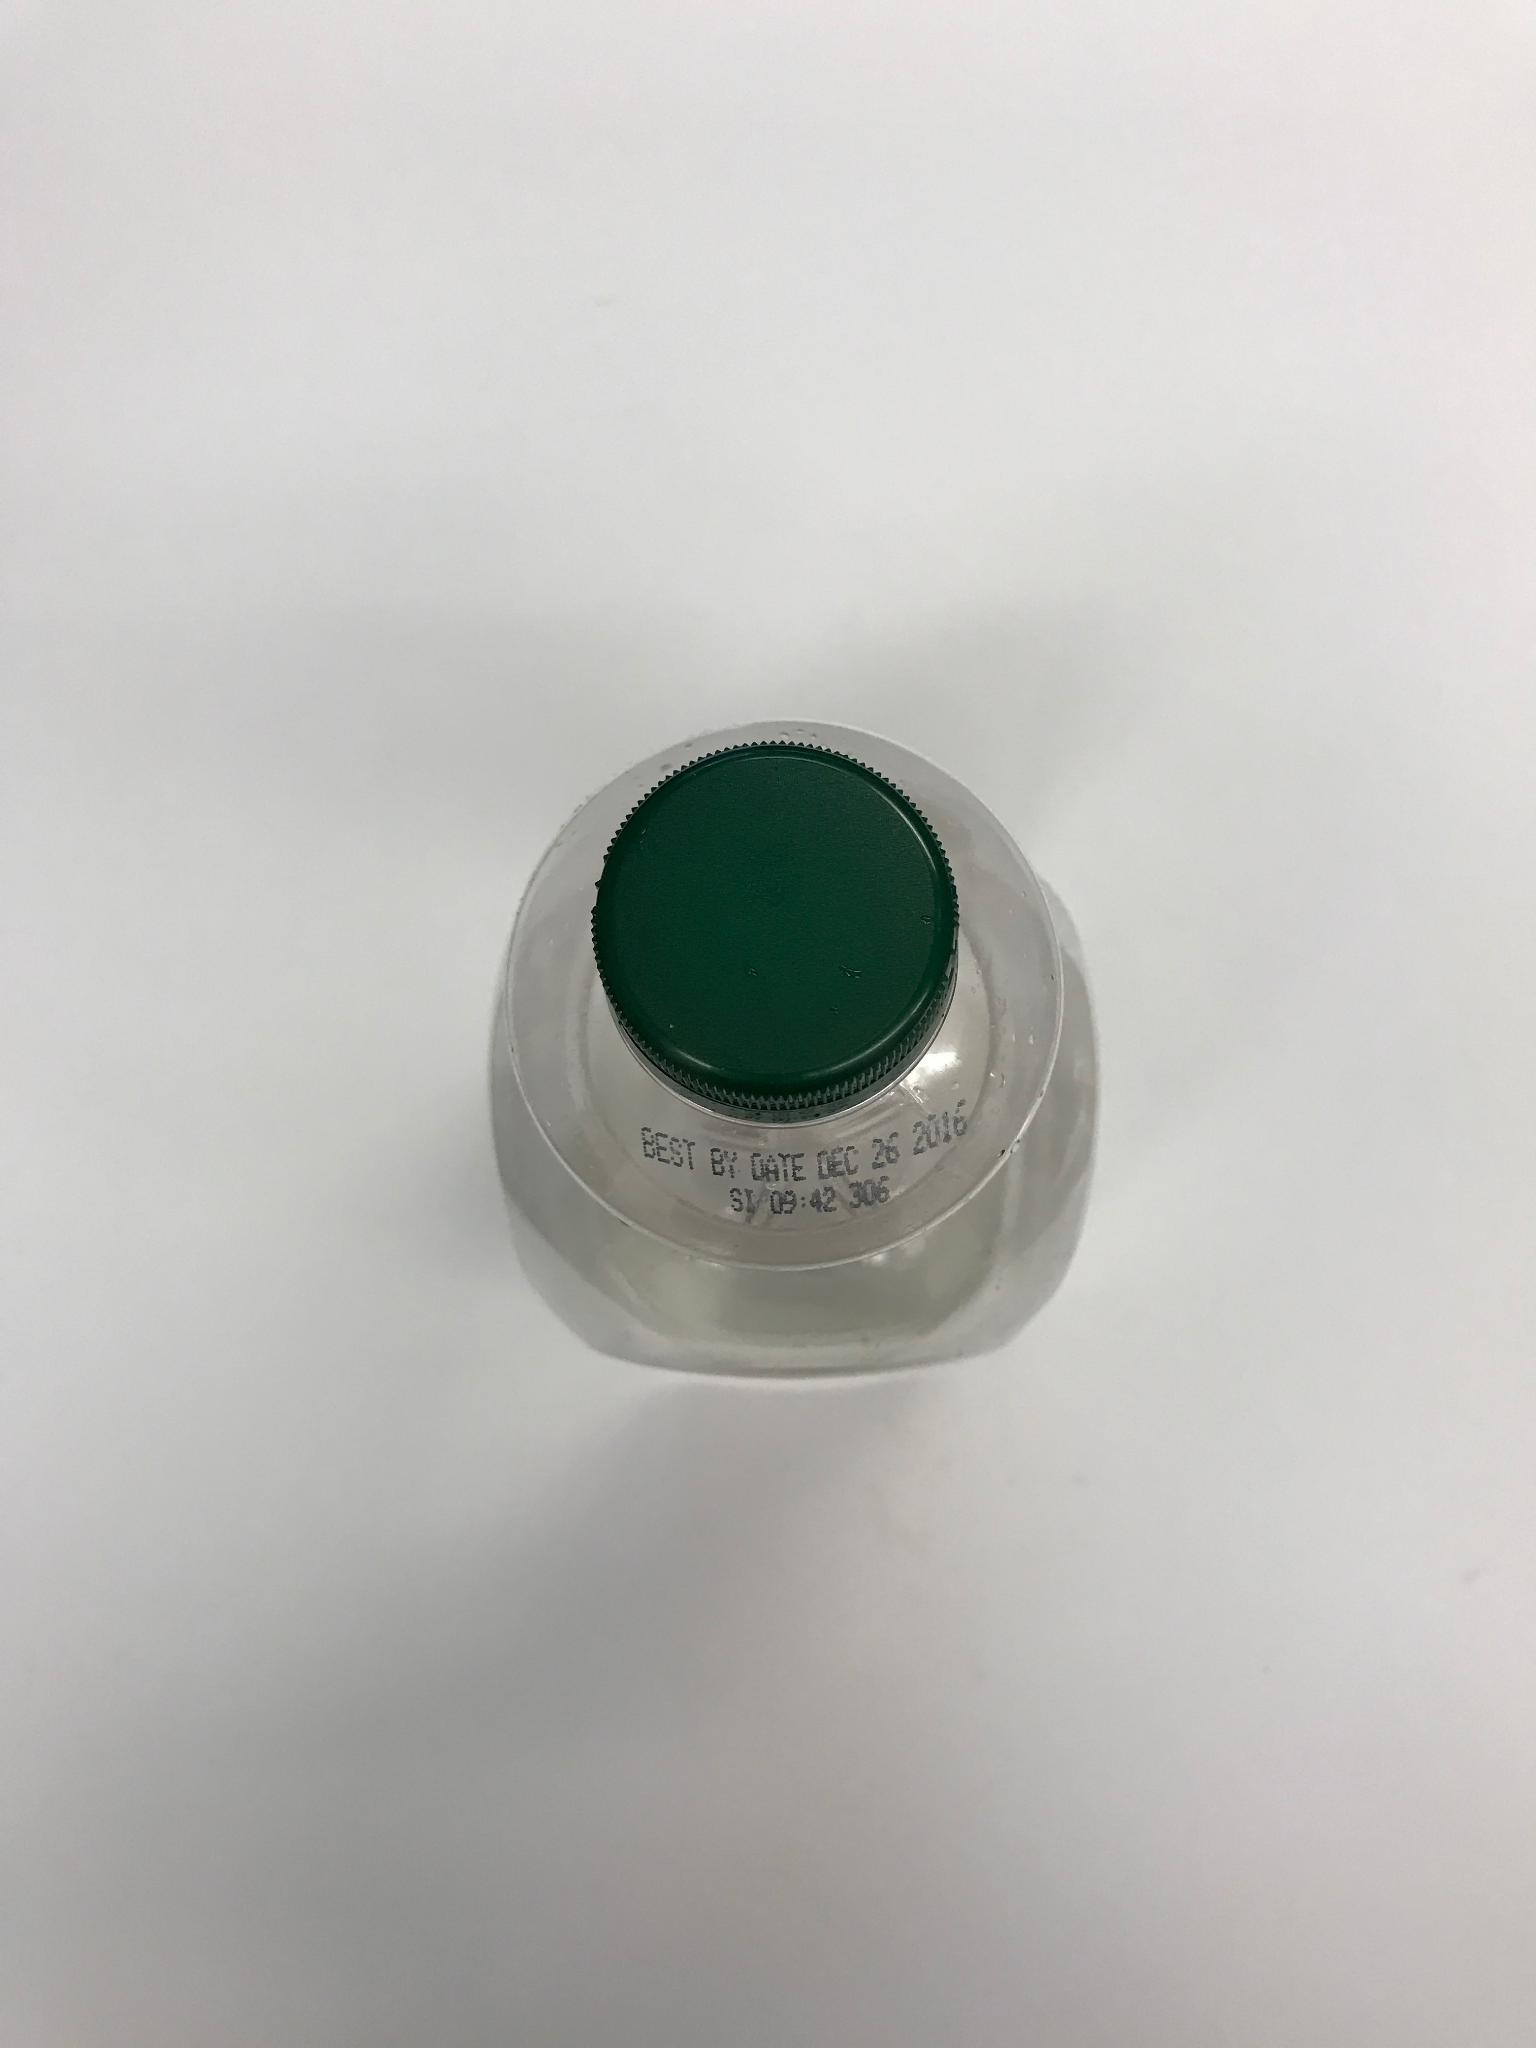Plastic: (495, 711, 1131, 1392)
